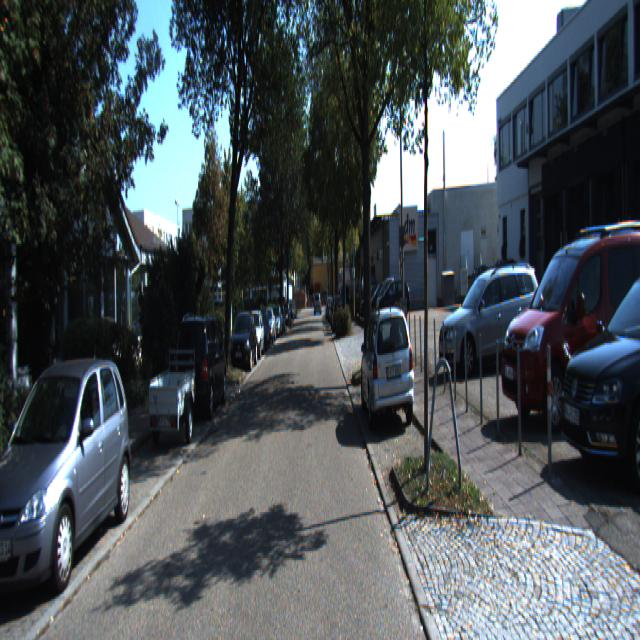Car: (0, 353, 136, 614), (496, 208, 640, 430), (550, 258, 640, 498), (438, 255, 544, 376), (358, 300, 417, 440), (175, 312, 227, 422), (146, 368, 198, 453), (229, 308, 258, 373)
